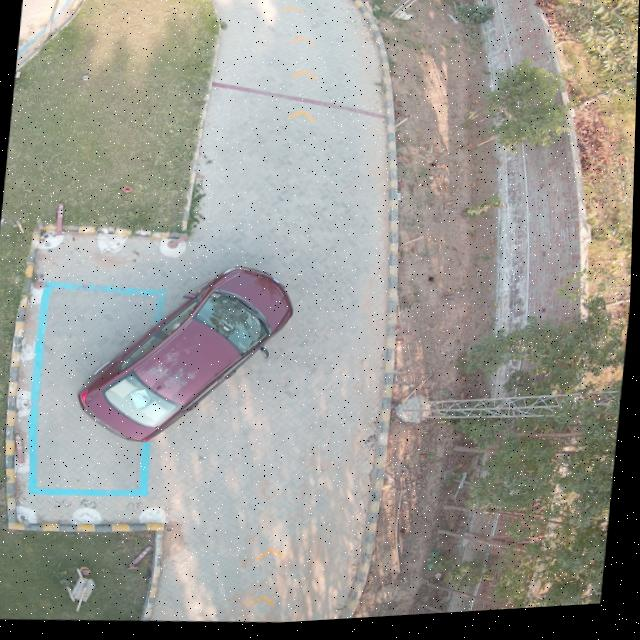car: (79, 268, 294, 444)
